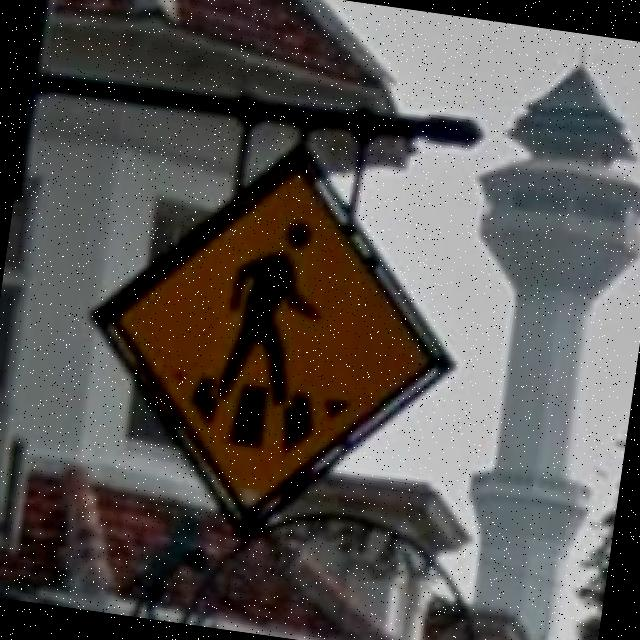Przejscie dla pieszych: (110, 162, 436, 520)
